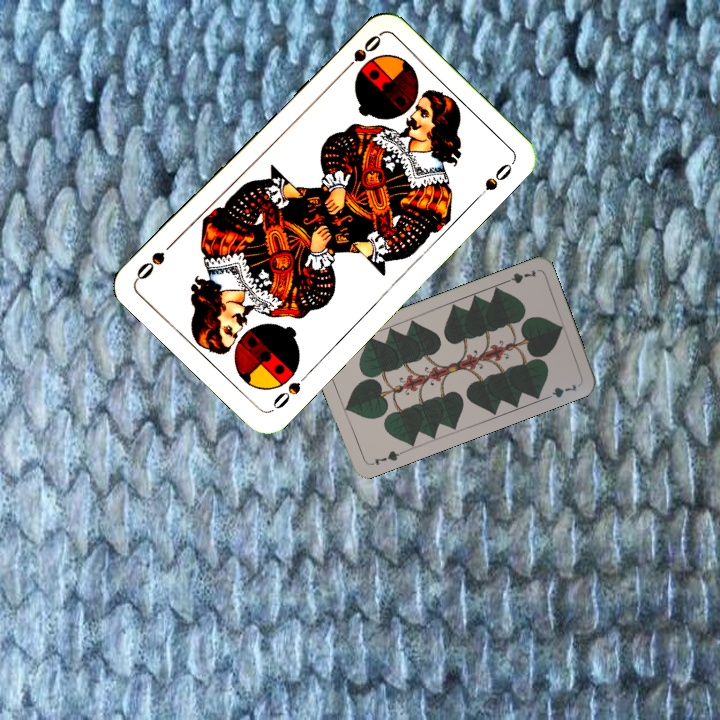G7: (366, 446, 405, 468), (499, 265, 539, 286)
SO: (337, 30, 384, 77), (268, 367, 313, 414)
